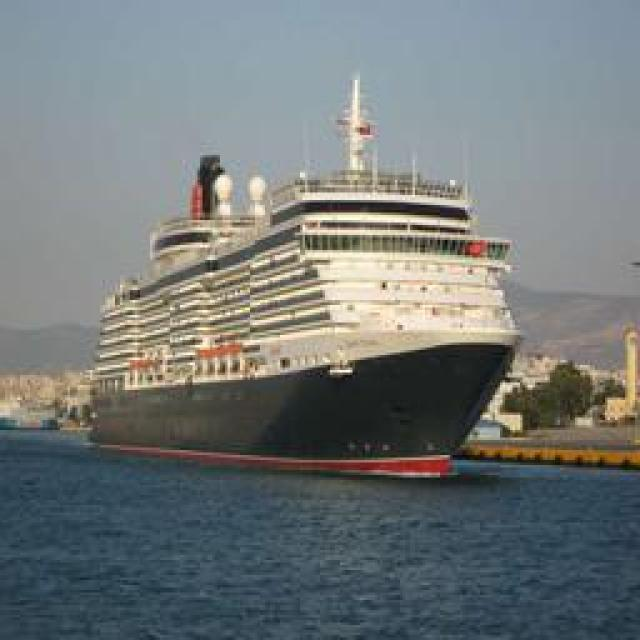CIV_Ship: (87, 71, 515, 479)
